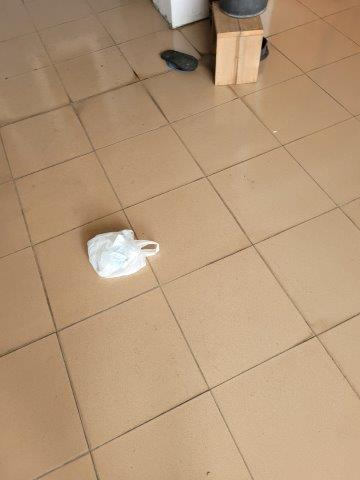plastik: (87, 228, 161, 277)
